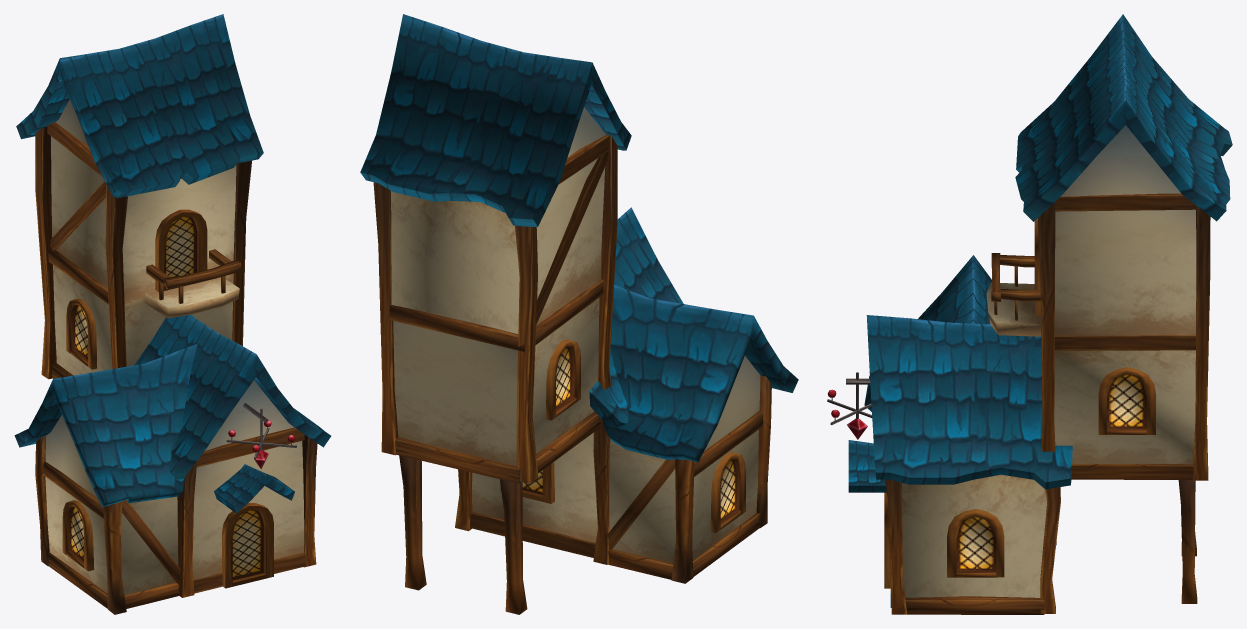
The model's file is building_6_1.FBX.
3 renders of one model, left to right at view 1: azimuth 30°, elevation 25°; view 2: azimuth 150°, elevation 25°; view 3: azimuth 270°, elevation 25°, orthographic. The views are drawn at different scales.
Parts seen in each view (by area): view 1: building_6_1; view 2: building_6_1; view 3: building_6_1.
Boxes of the visible parts, <box> form: building_6_1: <box>14,14,331,614</box>; building_6_1: <box>360,14,798,614</box>; building_6_1: <box>827,14,1232,614</box>.
Bounding box in the file's own units: 258 × 482 × 339.
